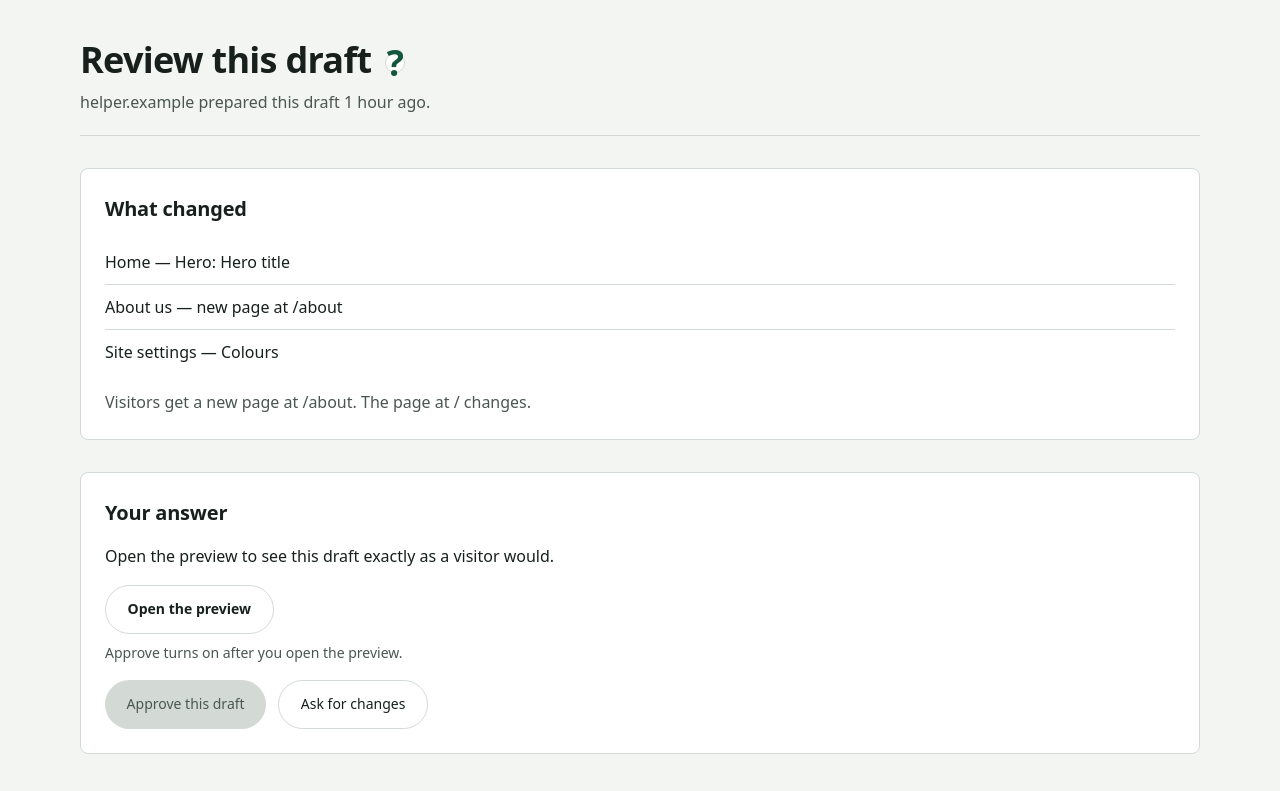
Test: Draft review screen › gives the answer one primary colour only, open or closed
Step 1. Click the button "Ask for changes" → (353, 704), box [278,680,428,729]
(page scrolled)
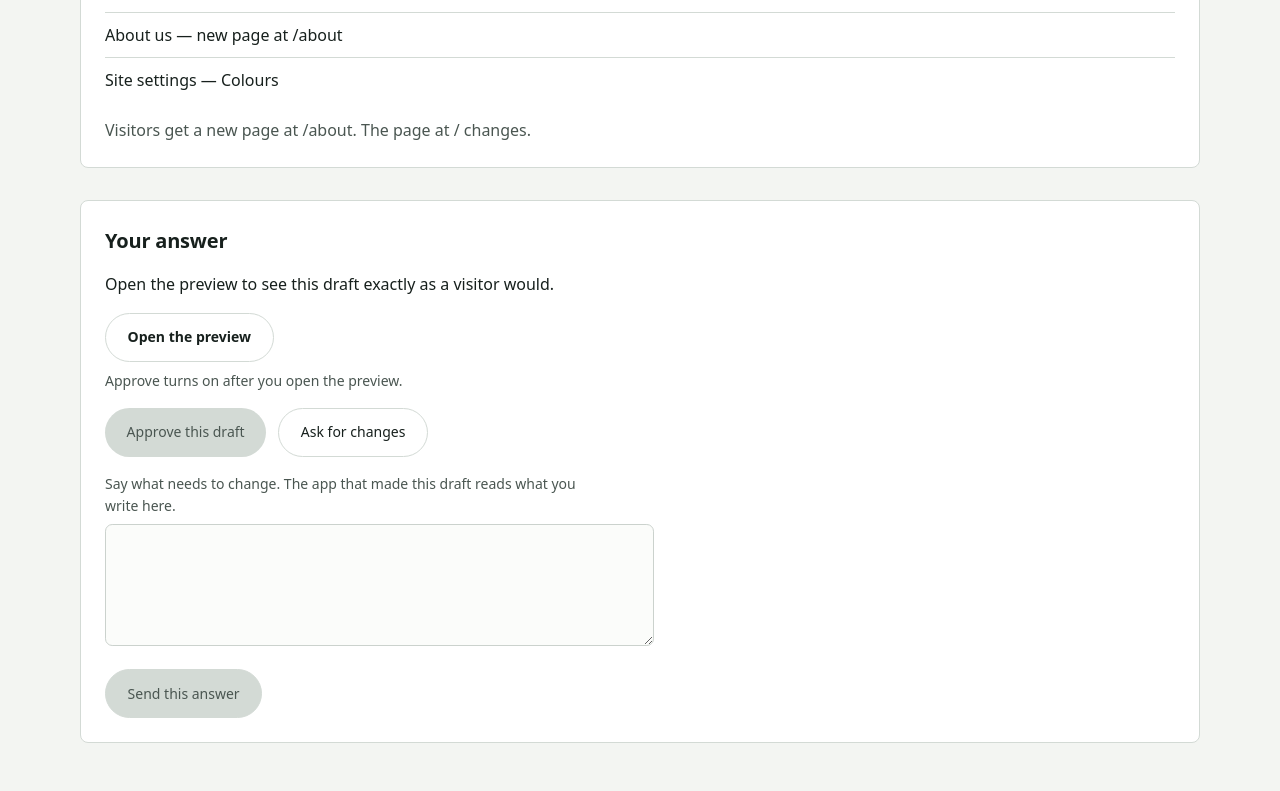
Expected: the text box is shown, [105,524,654,646]
